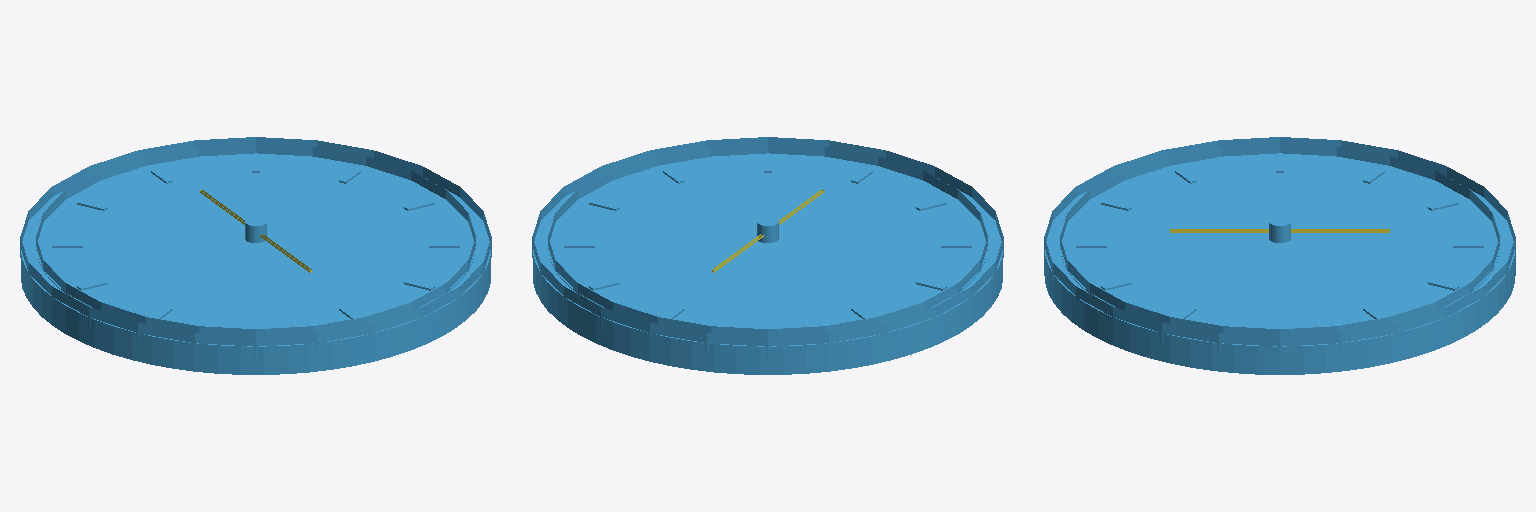
The robot description file, URDF, robot "a_clock_1":
<?xml version="1.0"?>
<robot name="a_clock_1">
  <link name="hour_hand">
    <visual>
      <geometry>
        <mesh filename="links/hour_hand.obj" />
      </geometry>
      <origin xyz="0.0 0.0 -1.45" rpy="0.0 0.0 0.0" />
    </visual>
    <collision>
      <geometry>
        <mesh filename="links/hour_hand.obj" />
      </geometry>
      <origin xyz="0.0 0.0 -1.45" rpy="0.0 0.0 0.0" />
    </collision>
  </link>
  <link name="clock_face">
    <visual>
      <geometry>
        <mesh filename="links/clock_face.obj" />
      </geometry>
    </visual>
    <collision>
      <geometry>
        <mesh filename="links/clock_face.obj" />
      </geometry>
    </collision>
  </link>
  <link name="minute_hand">
    <visual>
      <geometry>
        <mesh filename="links/minute_hand.obj" />
      </geometry>
      <origin xyz="0.0 0.0 -1.75" rpy="0.0 0.0 0.0" />
    </visual>
    <collision>
      <geometry>
        <mesh filename="links/minute_hand.obj" />
      </geometry>
      <origin xyz="0.0 0.0 -1.75" rpy="0.0 0.0 0.0" />
    </collision>
  </link>
  <link name="second_hand">
    <visual>
      <geometry>
        <mesh filename="links/second_hand.obj" />
      </geometry>
      <origin xyz="0.0 0.0 -2.05" rpy="0.0 0.0 0.0" />
    </visual>
    <collision>
      <geometry>
        <mesh filename="links/second_hand.obj" />
      </geometry>
      <origin xyz="0.0 0.0 -2.05" rpy="0.0 0.0 0.0" />
    </collision>
  </link>
  <joint name="clock_face_to_hour_hand" type="continuous">
    <parent link="clock_face" />
    <child link="hour_hand" />
    <origin xyz="0 0 1.45" rpy="0 0 0" />
    <axis xyz="0 0 1" />
    
  </joint>
  <joint name="clock_face_to_minute_hand" type="continuous">
    <parent link="clock_face" />
    <child link="minute_hand" />
    <origin xyz="0 0 1.75" rpy="0 0 0" />
    <axis xyz="0 0 1" />
    
  </joint>
  <joint name="clock_face_to_second_hand" type="continuous">
    <parent link="clock_face" />
    <child link="second_hand" />
    <origin xyz="0 0 2.05" rpy="0 0 0" />
    <axis xyz="0 0 1" />
    
  </joint>
</robot>

--- Render facts (derived) ---
The picture shows the robot from 3 angles, left to right: view 1: azimuth 30°, elevation 25°; view 2: azimuth 150°, elevation 25°; view 3: azimuth 270°, elevation 25°; orthographic projection.
Robot: a_clock_1 — 4 links, 3 joints (3 continuous); root link clock_face; default pose: all joints at 0.
Links seen in each view (by area): view 1: clock_face; view 2: clock_face; view 3: clock_face, second_hand.
Link boxes in pixels (left/top/right/bottom): clock_face: left=20, top=137, right=491, bottom=374; clock_face: left=532, top=137, right=1003, bottom=374; clock_face: left=1044, top=137, right=1515, bottom=374; second_hand: left=1170, top=229, right=1389, bottom=232.
Bounding box of the posed robot: 30 × 30 × 5.8 m (x, y, z).
Meshes: 4 distinct files referenced, 2 mesh visuals loaded (2 OBJ); not drawn: 2 (reference not matched to a file when rendering).
